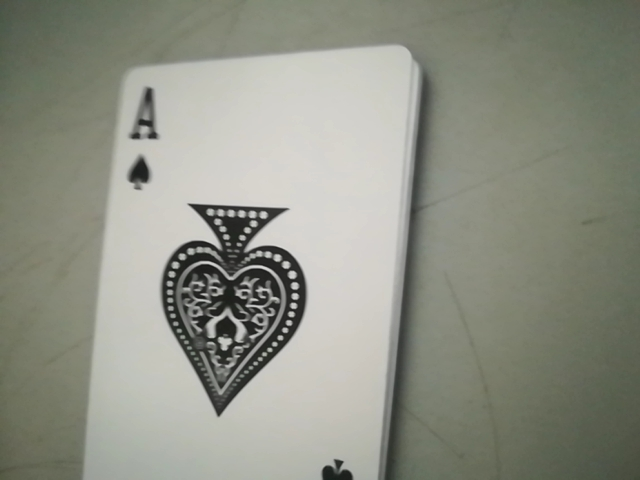ht a: (110, 84, 169, 204)
